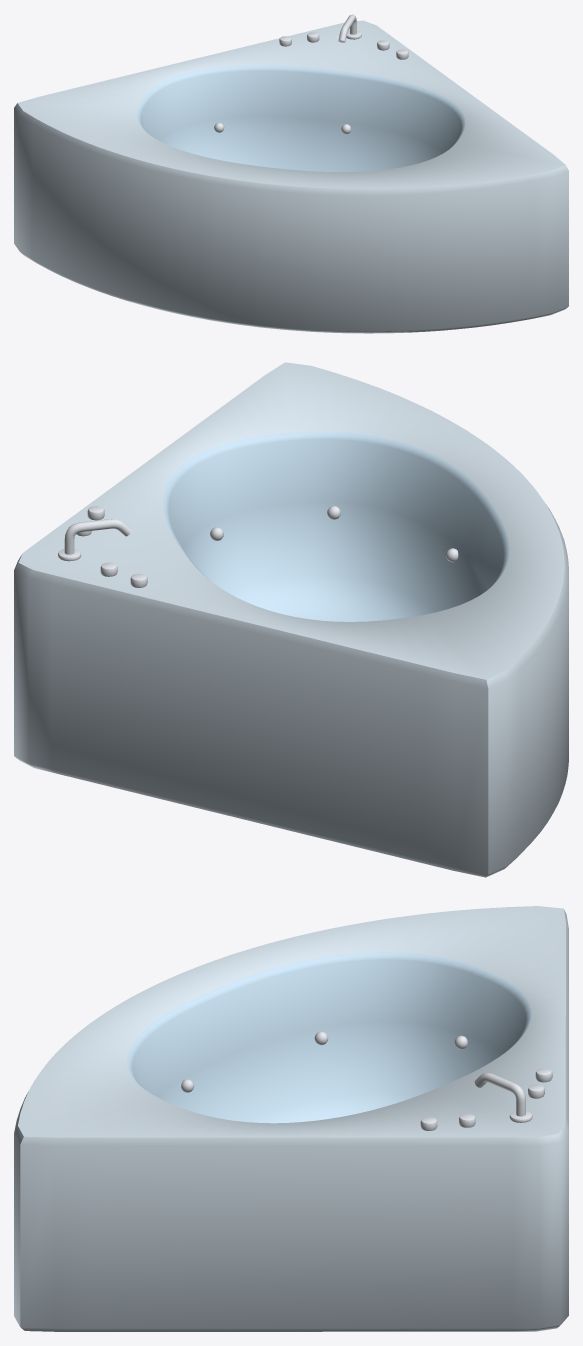
Rendered from banheira_canto_hidro_azul.glb.
3 renders of one model, top to bottom at view 1: azimuth 30°, elevation 25°; view 2: azimuth 150°, elevation 25°; view 3: azimuth 270°, elevation 25°, orthographic. The views are drawn at different scales.
Visible parts, largest first — view 1: banheira_canto_hidro_azul; view 2: banheira_canto_hidro_azul; view 3: banheira_canto_hidro_azul.
Boxes of the visible parts, x1,y1,x2,y2 form: banheira_canto_hidro_azul: (14,14,568,333); banheira_canto_hidro_azul: (14,362,568,877); banheira_canto_hidro_azul: (14,906,568,1331).
Bounding box in the file's own units: 1.45 × 0.653 × 1.45.
1 material, 1 textured.
